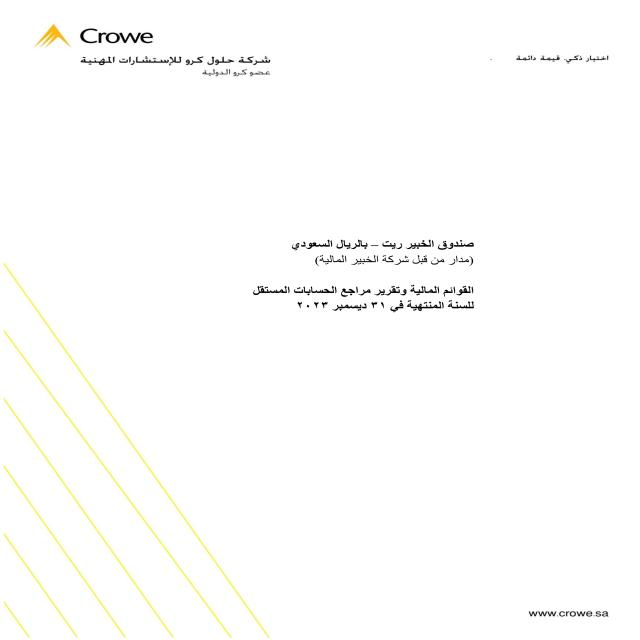other: (162, 174, 540, 386)
